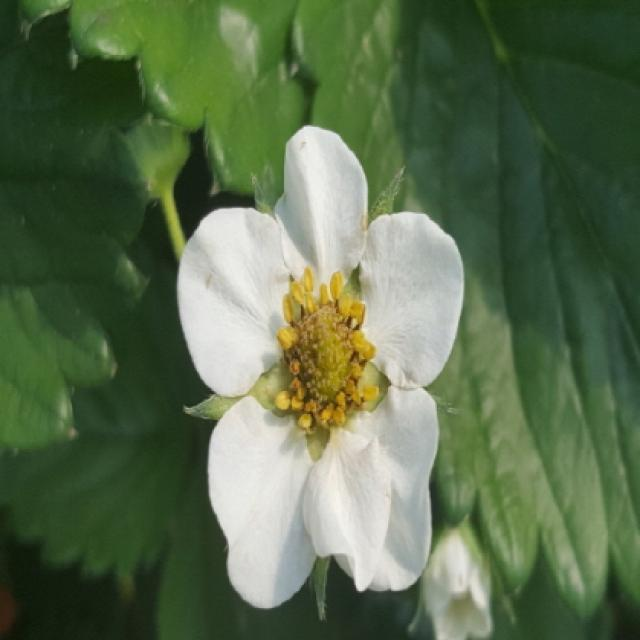Blossom Blight: (271, 263, 384, 437)
